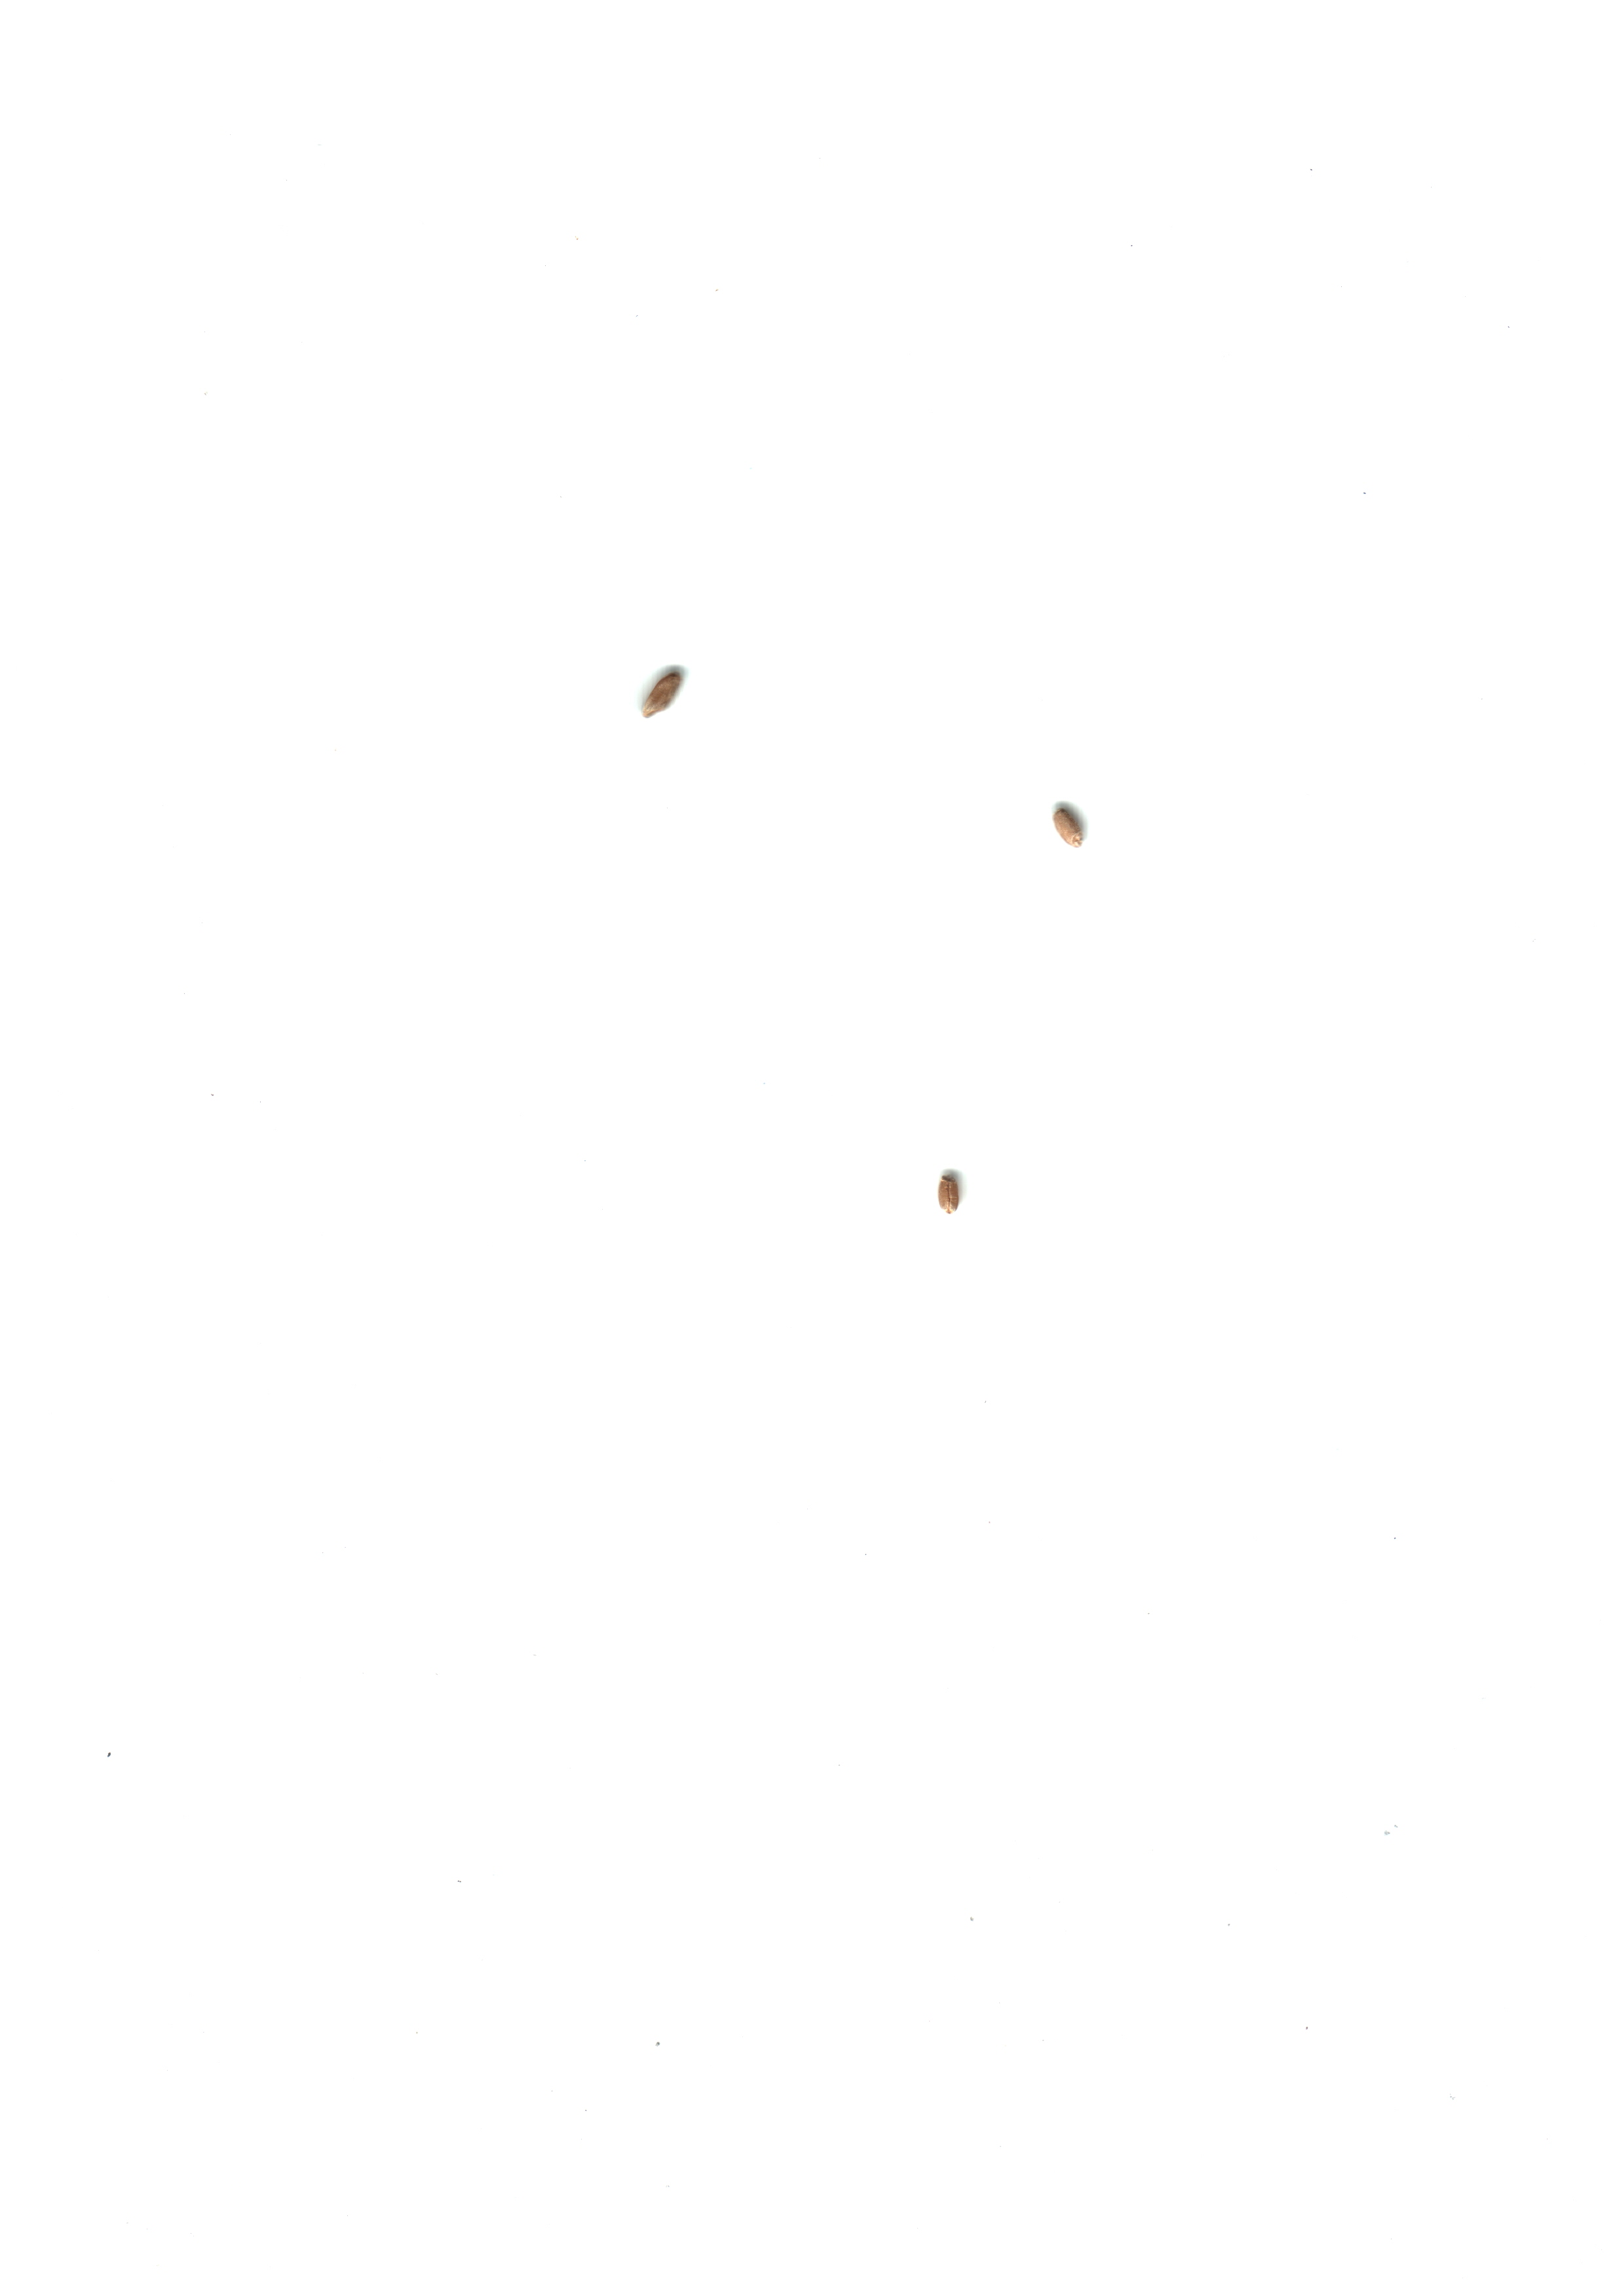grains_3mm: (904, 1148, 999, 1234), (1037, 764, 1106, 869), (624, 645, 692, 750)
